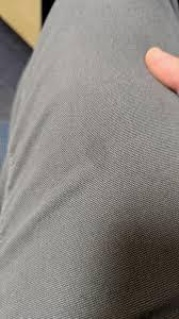oil: (85, 133, 117, 173)
